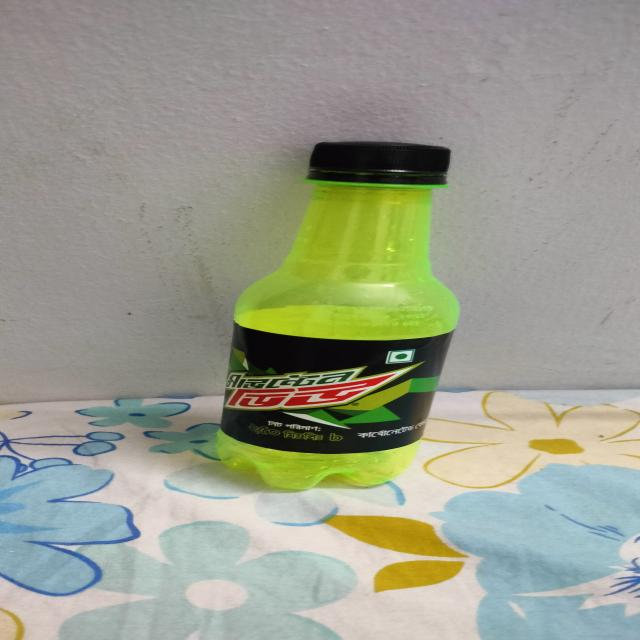Bottle: (220, 139, 464, 490)
